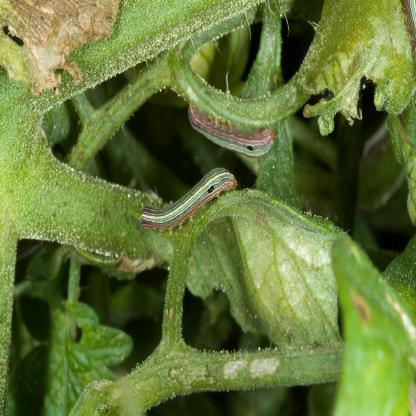armyworm: (137, 164, 239, 234), (184, 93, 278, 165)
